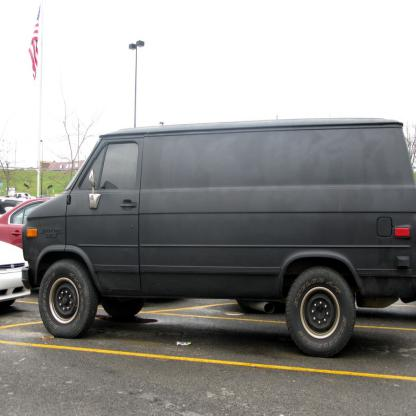Car: (0, 191, 54, 309)
